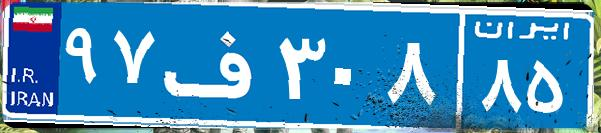0: (330, 28, 385, 110)
3: (273, 28, 330, 110)
5: (525, 38, 570, 115)
7: (110, 28, 158, 105)
8: (385, 28, 445, 110), (475, 38, 525, 113)
9: (57, 26, 110, 107)
ف: (158, 15, 273, 115)
